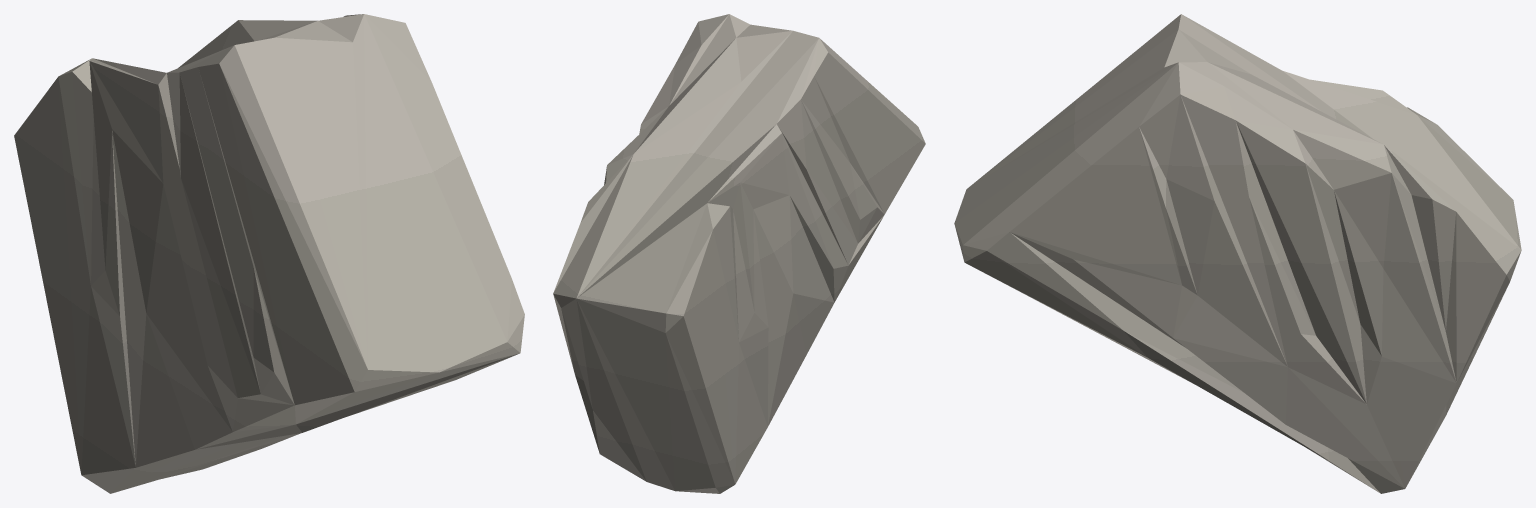
Rendered from YN_RockPlate13.fbx.
3 views of the same model, side by side, from view 1: azimuth 30°, elevation 25°; view 2: azimuth 150°, elevation 25°; view 3: azimuth 270°, elevation 25° (orthographic). The views are drawn at different scales.
Visible parts, largest first — view 1: RockPlate13; view 2: RockPlate13; view 3: RockPlate13.
Boxes of the visible parts, <box> form: RockPlate13: <box>14,14,524,493</box>; RockPlate13: <box>553,14,925,493</box>; RockPlate13: <box>954,14,1521,493</box>.
Bounding box in the file's own units: 0.5033 × 1.25 × 1.47.
